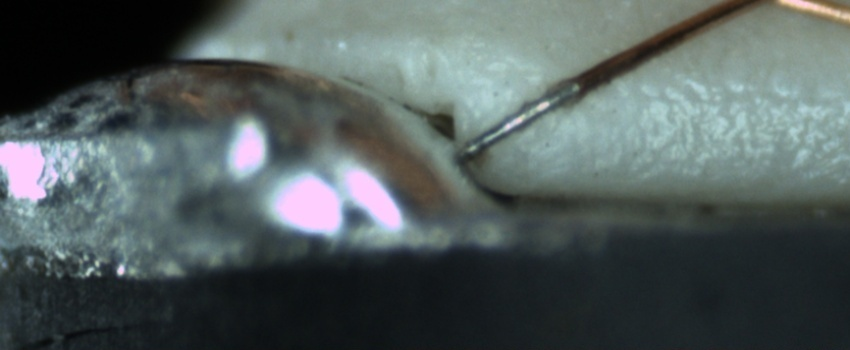CL: (726, 0, 826, 9)
DL: (570, 68, 849, 132)
TS: (457, 79, 580, 158)
TTCW: (453, 50, 624, 163)
